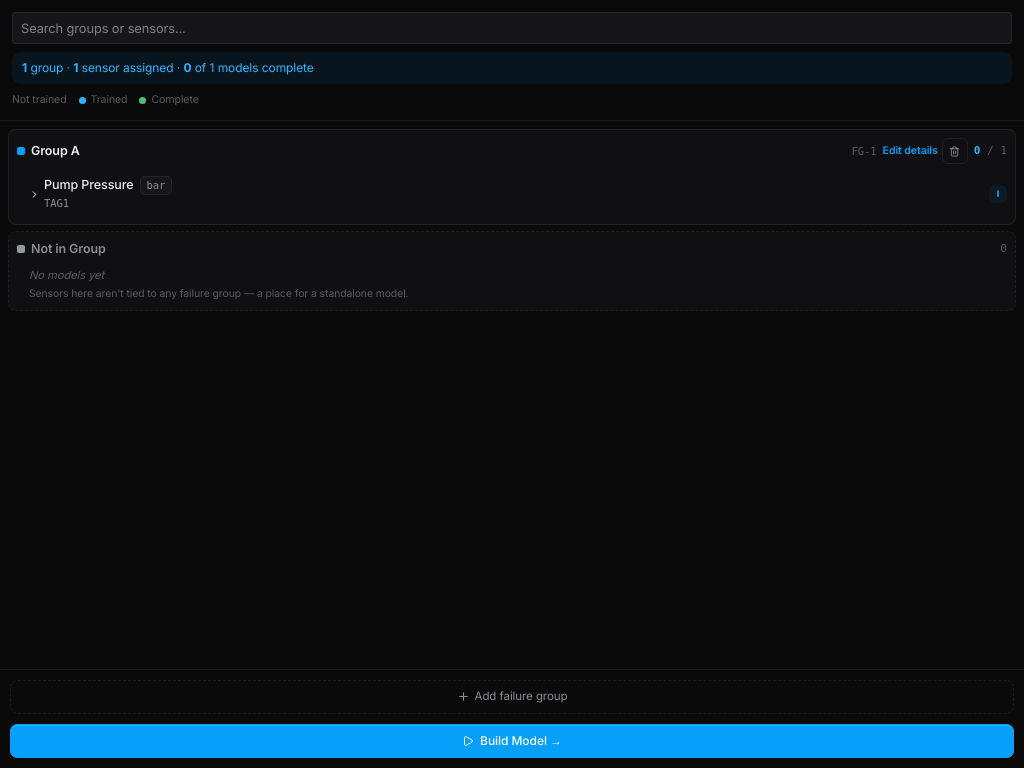
Test: FailureGroupsPanel › editing group details ("Edit details" panel) › "Edit details" reveals Name + Description + Recommendation together, seeded from the group
What coordinates should you click on to do the following:
click the button "Edit details"
I would click on:
 (910, 151)
Its box is [883, 143, 938, 159].
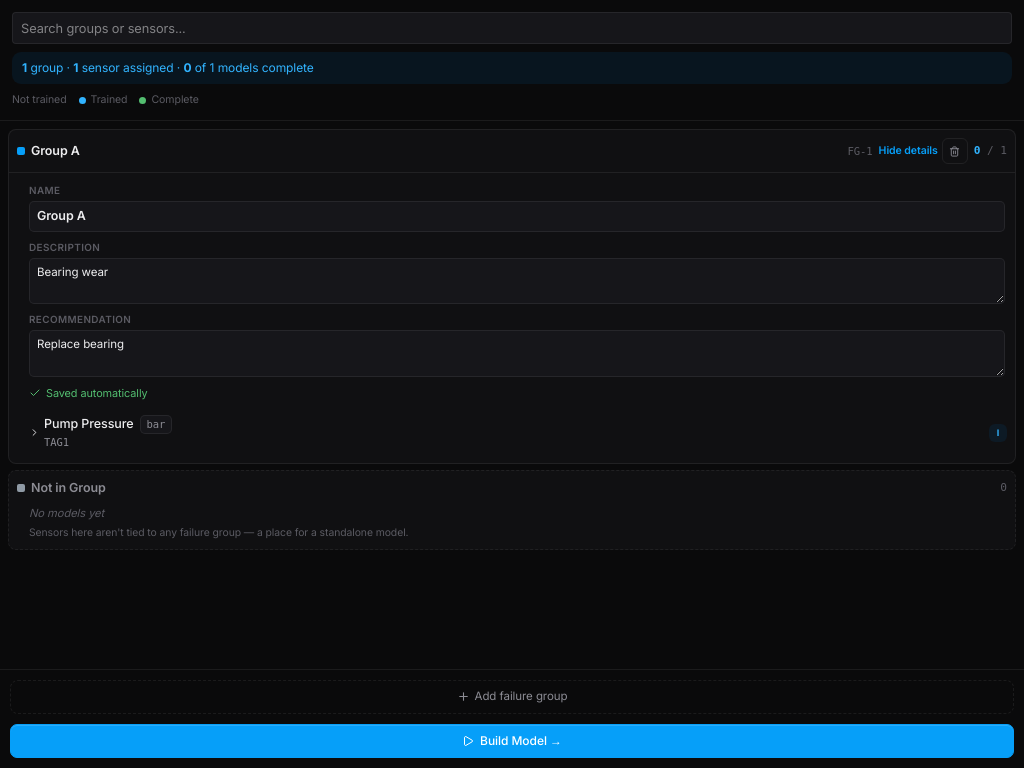
Check: the field showing "Group A" is shown, box [29, 201, 1005, 232]
Check: the text box showing "Bearing wear" below "Description" is shown, box [29, 258, 1005, 304]
Check: the text box showing "Replace bearing" below "Recommendation" is shown, box [29, 330, 1005, 377]
